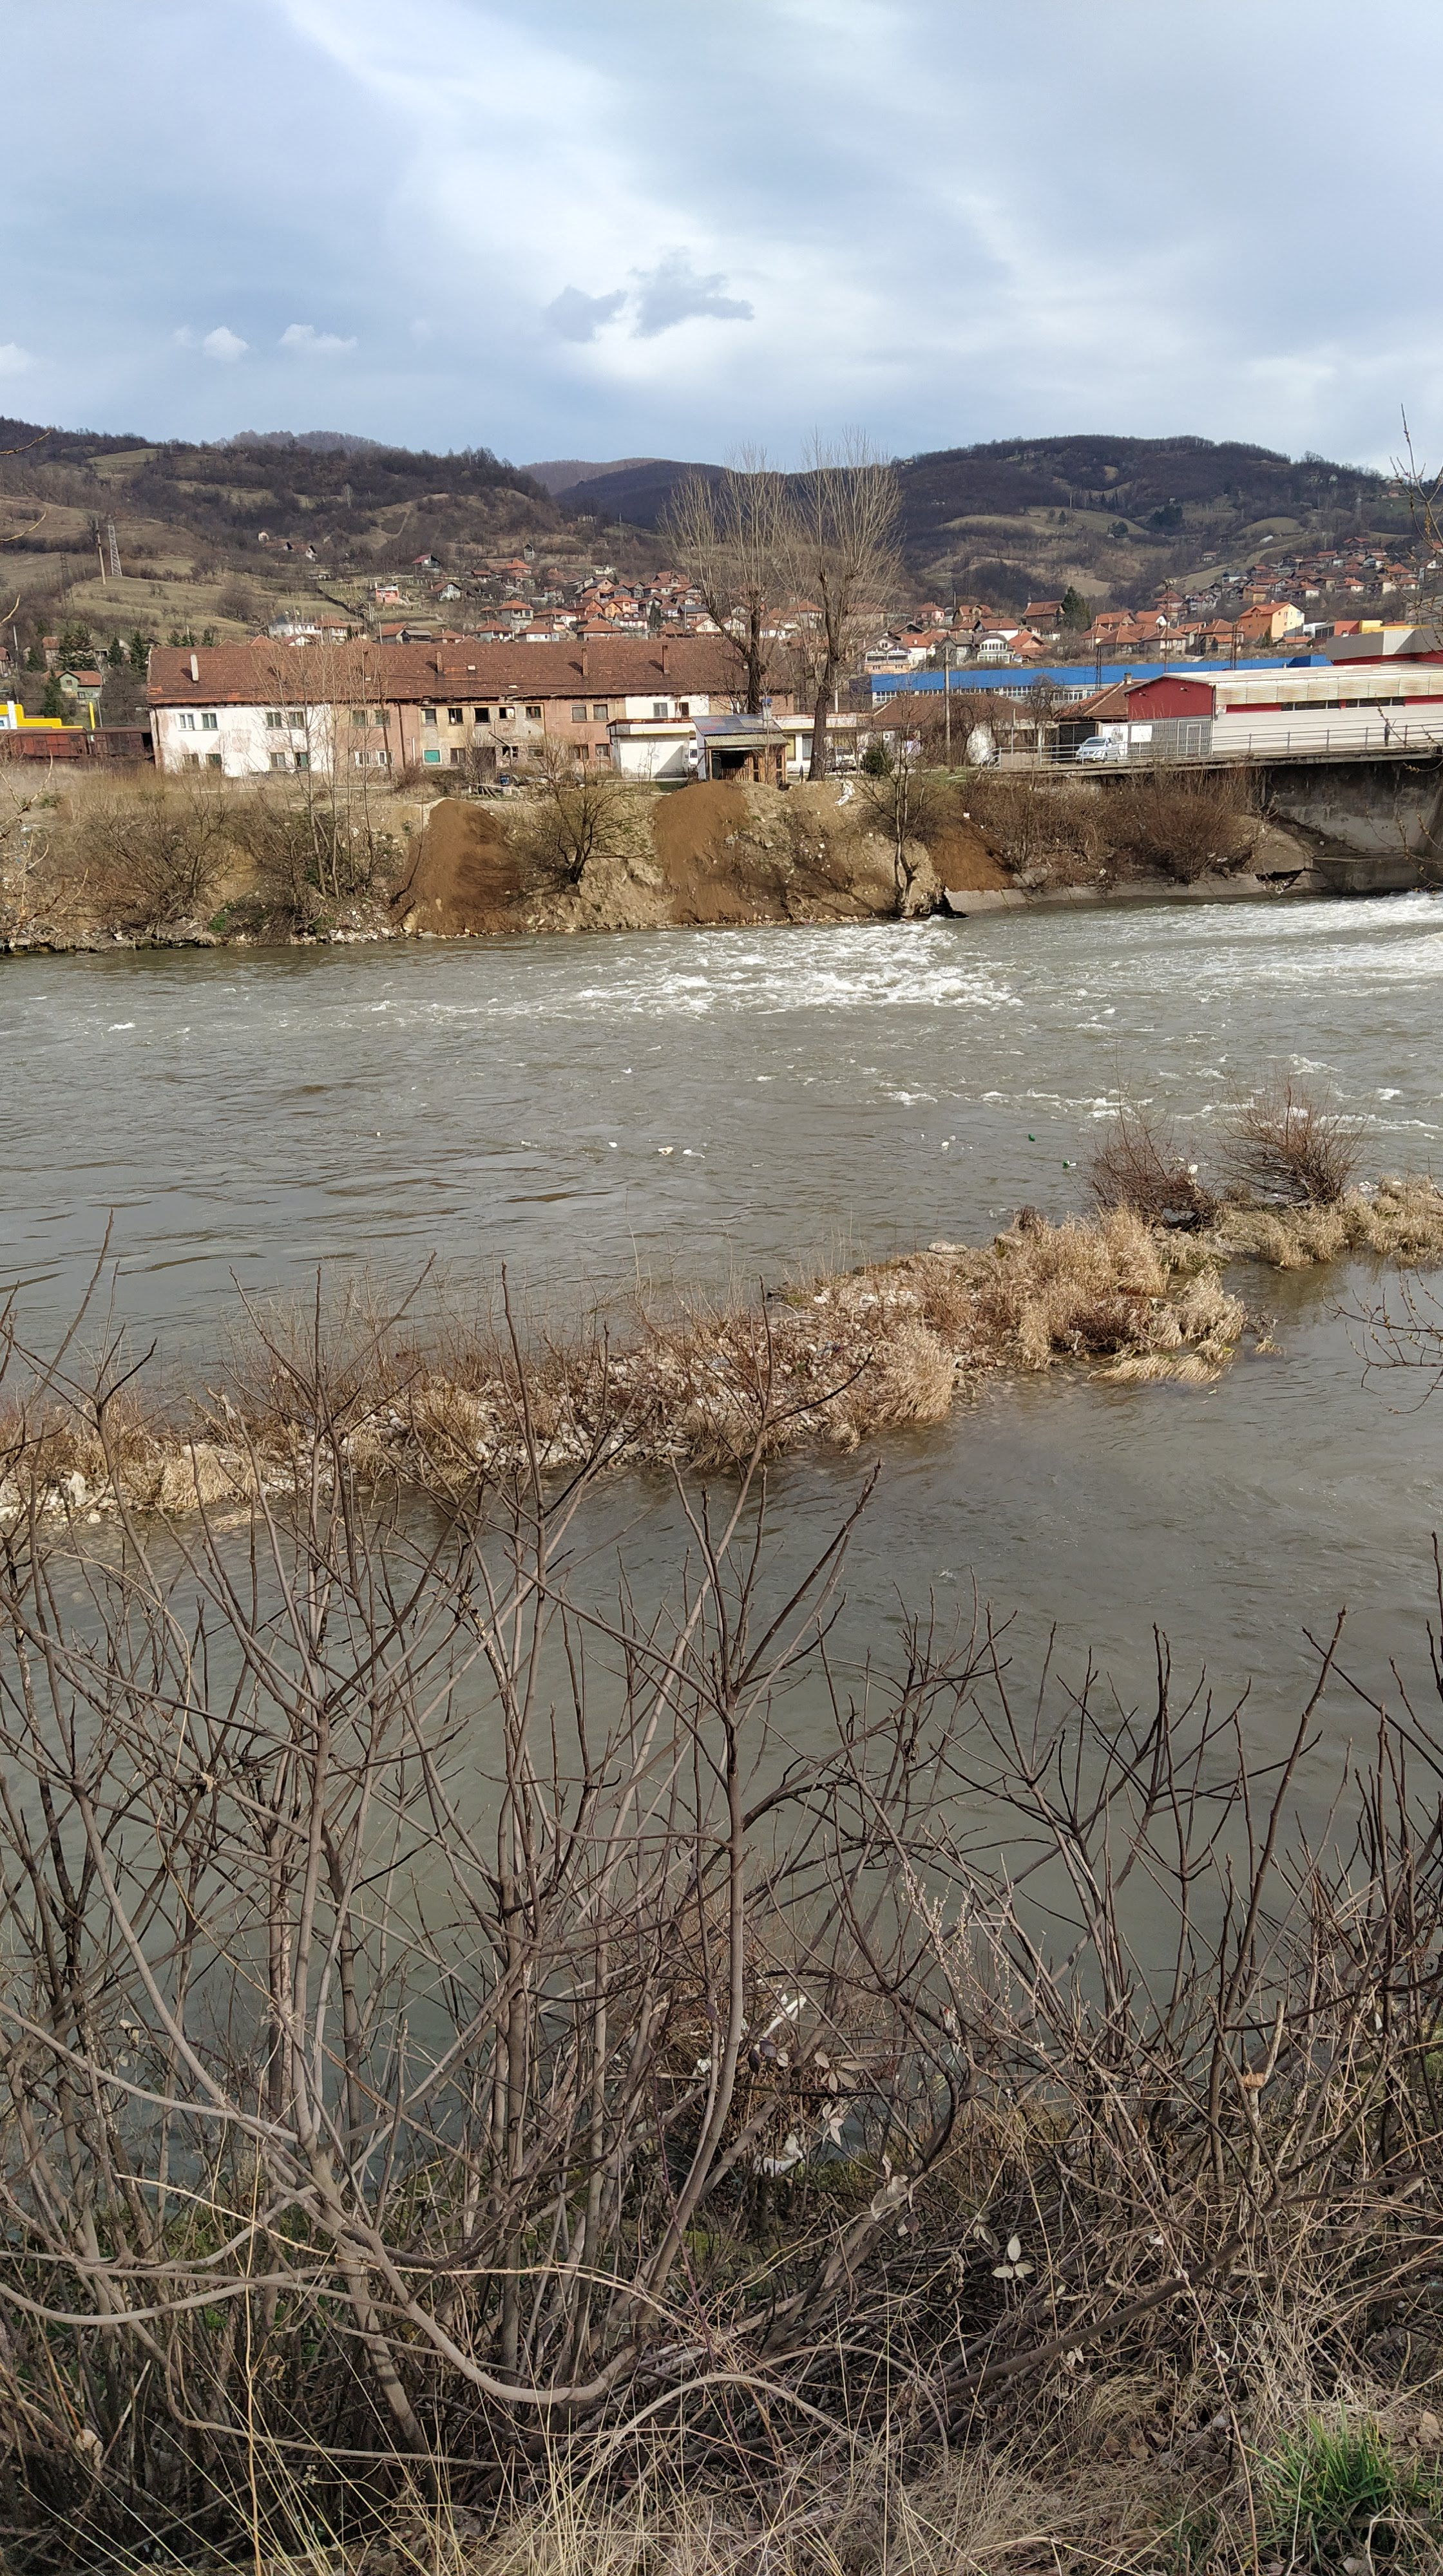Plastic Bottle: (662, 1146, 671, 1155), (689, 1152, 701, 1157), (1062, 1159, 1069, 1168), (1029, 1132, 1036, 1141), (1078, 1127, 1089, 1132), (942, 1141, 949, 1148), (951, 1134, 954, 1141)
